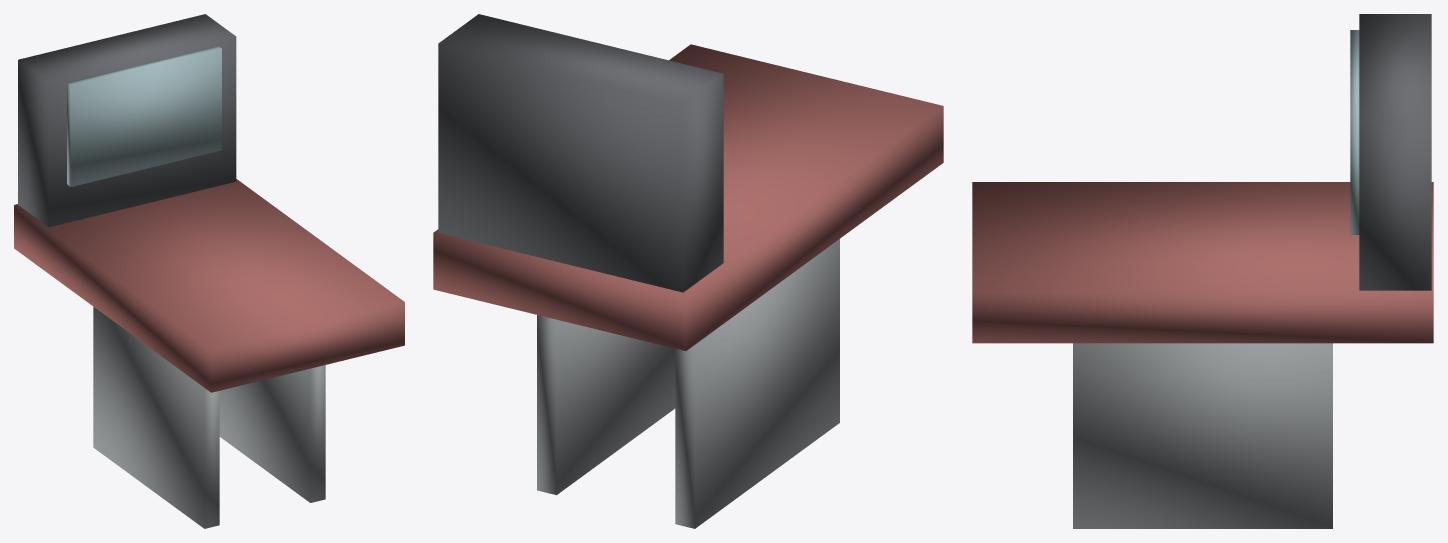
File: pinball_machine__squat.glb
The picture shows the model from 3 angles, left to right: view 1: azimuth 30°, elevation 25°; view 2: azimuth 150°, elevation 25°; view 3: azimuth 270°, elevation 25°; orthographic projection. The views are drawn at different scales.
Parts seen in each view (by area): view 1: world; view 2: world; view 3: world.
Boxes of the visible parts, <box> form: world: <box>14,14,404,528</box>; world: <box>433,14,943,528</box>; world: <box>972,14,1433,528</box>.
Size of the model in its own units: 0.704 by 1.27 by 1.24.
